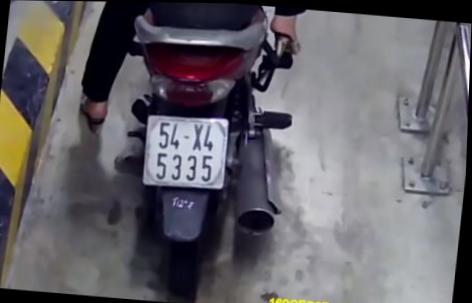LP: (138, 109, 235, 192)
